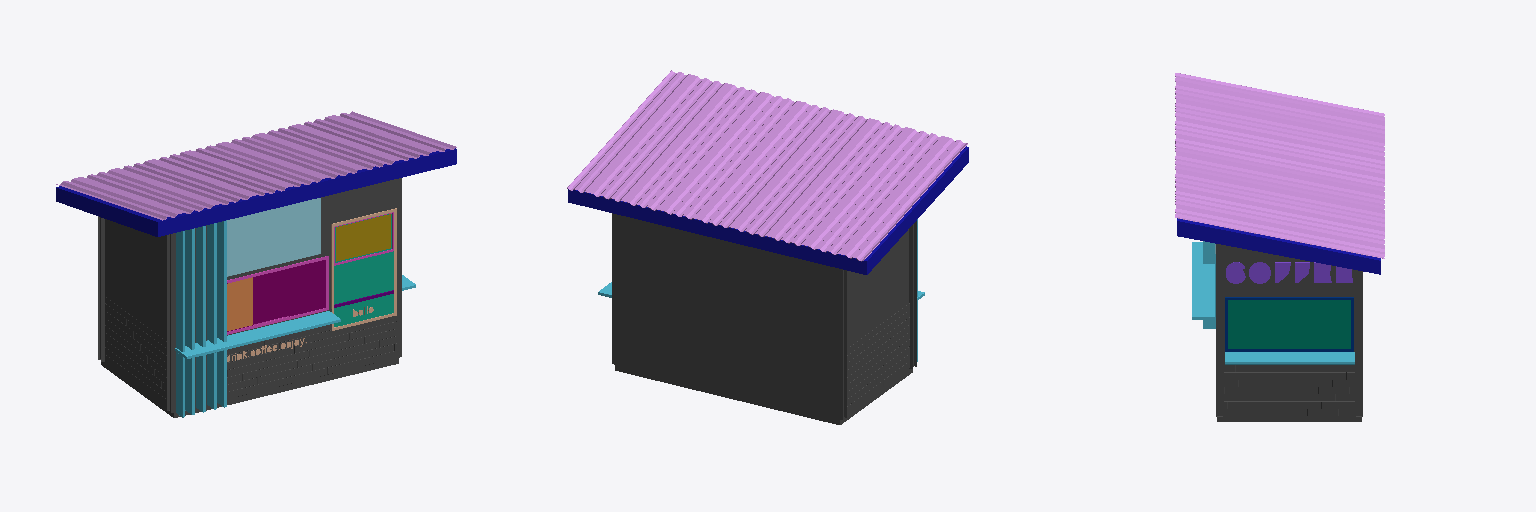
Rendered from coffee_model__corona.obj.
3 views of the same model, side by side, from view 1: azimuth 30°, elevation 25°; view 2: azimuth 150°, elevation 25°; view 3: azimuth 270°, elevation 25° (orthographic).
Parts seen in each view (by area): view 1: coffee_model_022, coffee_model_001, coffee_model_005, coffee_model_021, coffee_model_026, coffee_model_029, coffee_model_011, coffee_model_014, coffee_model_033, coffee_model_012, coffee_model_016, coffee_model_019 (+11 smaller); view 2: coffee_model_022, coffee_model_001, coffee_model_021, coffee_model_029, coffee_model_027, coffee_model_028, coffee_model_002; view 3: coffee_model_022, coffee_model_004, coffee_model_013, coffee_model_001, coffee_model_021, coffee_model_024, coffee_model_015, coffee_model_014, coffee_model_003, coffee_model_002, coffee_model_008.
Part boxes in pixels (x1,y1,x2,y2): coffee_model_022: (56, 111, 456, 220); coffee_model_001: (101, 179, 398, 417); coffee_model_005: (227, 309, 396, 398); coffee_model_021: (56, 148, 456, 236); coffee_model_026: (227, 198, 320, 276); coffee_model_029: (105, 297, 166, 405); coffee_model_011: (334, 214, 393, 304); coffee_model_014: (175, 311, 340, 358); coffee_model_033: (336, 214, 390, 261); coffee_model_012: (289, 260, 325, 316); coffee_model_016: (217, 220, 226, 407); coffee_model_019: (185, 228, 194, 414); coffee_model_022: (567, 70, 967, 261); coffee_model_001: (615, 215, 912, 424); coffee_model_021: (568, 146, 968, 274); coffee_model_029: (847, 303, 909, 413); coffee_model_027: (839, 269, 846, 419); coffee_model_028: (909, 221, 916, 368); coffee_model_002: (612, 213, 616, 364); coffee_model_022: (1175, 73, 1384, 258); coffee_model_004: (1224, 351, 1354, 415); coffee_model_013: (1228, 300, 1350, 348); coffee_model_001: (1217, 245, 1361, 421); coffee_model_021: (1177, 218, 1380, 274); coffee_model_024: (1226, 262, 1352, 283); coffee_model_015: (1225, 352, 1354, 364); coffee_model_014: (1192, 242, 1214, 319); coffee_model_003: (1216, 244, 1223, 416); coffee_model_002: (1355, 270, 1362, 416); coffee_model_008: (1225, 297, 1353, 351).
Bounding box in the file's own units: 5469 × 3900 × 3318.